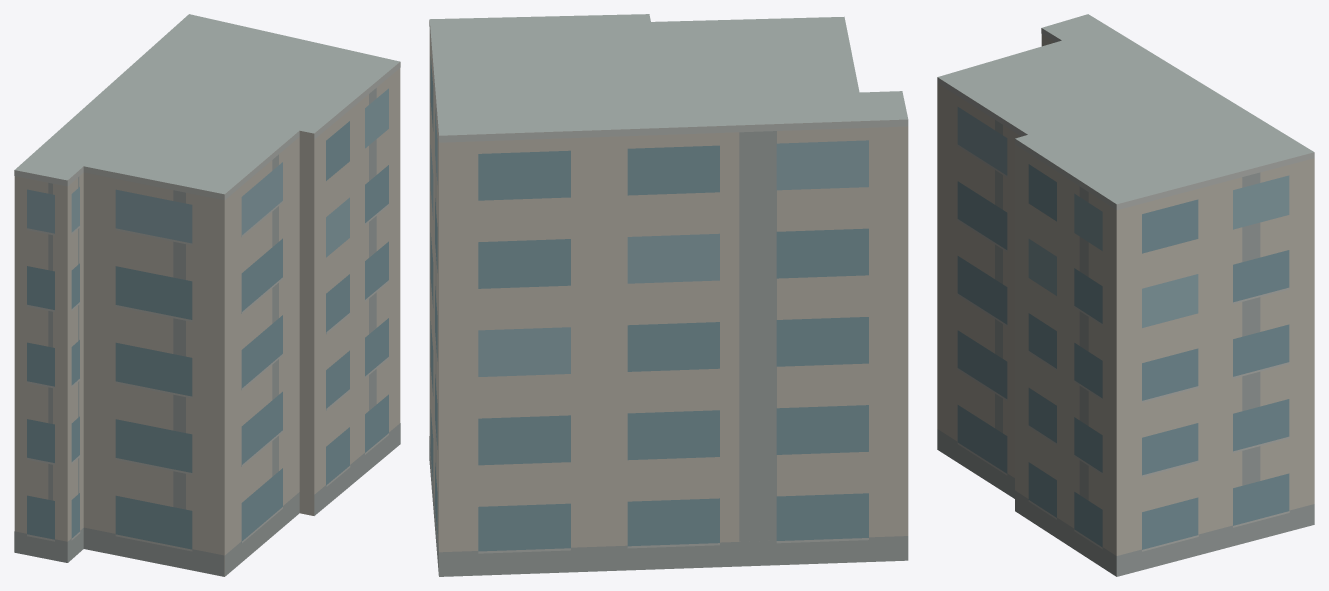
The model's file is survey-upis-32895393.glb.
3 renders of one model, left to right at view 1: azimuth 30°, elevation 25°; view 2: azimuth 150°, elevation 25°; view 3: azimuth 270°, elevation 25°, orthographic. The views are drawn at different scales.
Visible parts, largest first — view 1: survey-upis-32895393.tmp; view 2: survey-upis-32895393.tmp; view 3: survey-upis-32895393.tmp.
Part boxes in pixels (bbox=[...]): survey-upis-32895393.tmp: bbox=[14, 14, 400, 576]; survey-upis-32895393.tmp: bbox=[429, 14, 908, 576]; survey-upis-32895393.tmp: bbox=[937, 14, 1314, 576].
Size of the model in its own units: 16.88 by 15.4 by 14.14.
